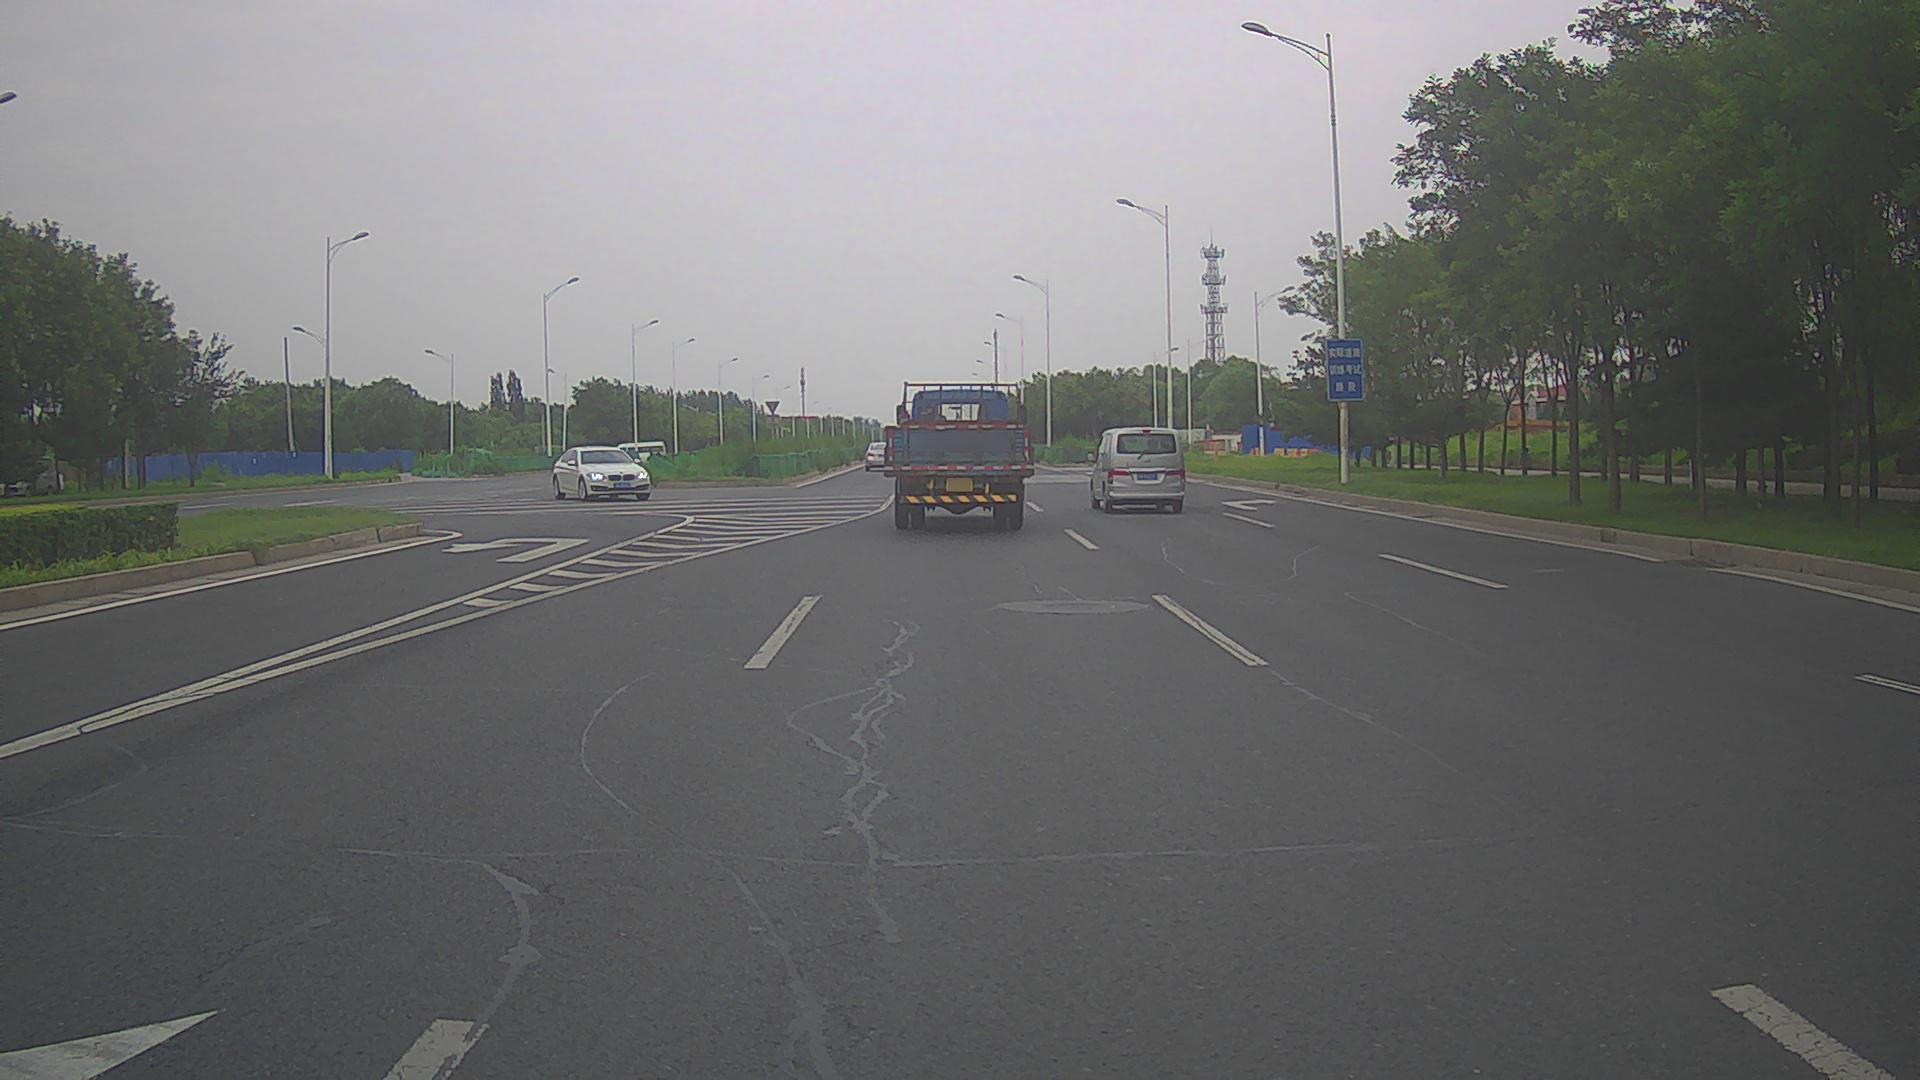car: (551, 444, 651, 500), (864, 440, 893, 472)
truck: (891, 381, 1036, 533)
van: (1087, 427, 1185, 512), (613, 440, 667, 471)
